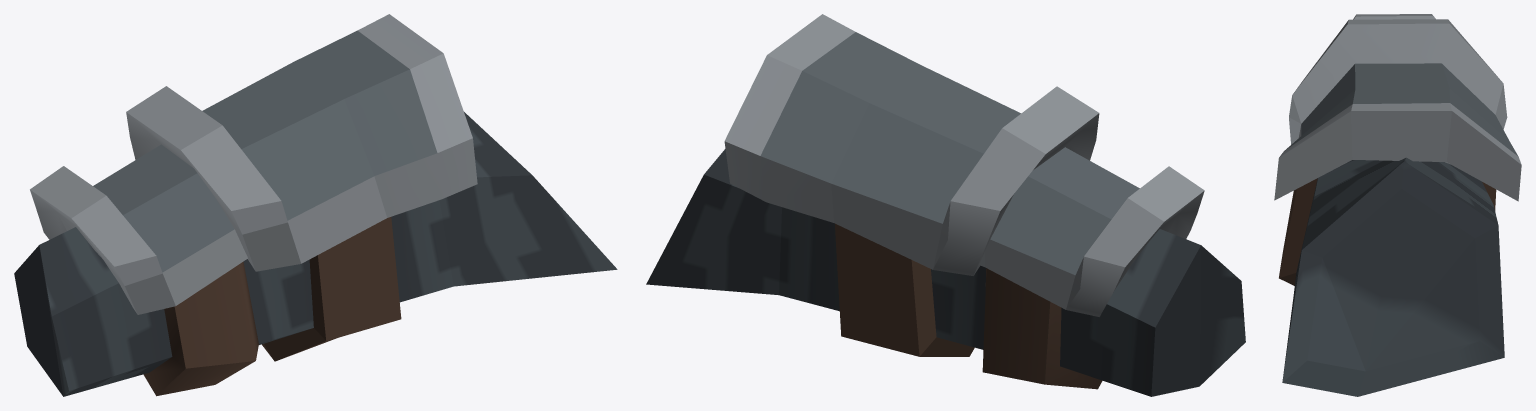
Rendered from Chr_ArmUpperRight_Female_04_Static.fbx.
The picture shows the model from 3 angles, left to right: view 1: azimuth 30°, elevation 25°; view 2: azimuth 150°, elevation 25°; view 3: azimuth 270°, elevation 25°; orthographic projection. The views are drawn at different scales.
Parts seen in each view (by area): view 1: Chr_ArmUpperRight_Female_04_Static; view 2: Chr_ArmUpperRight_Female_04_Static; view 3: Chr_ArmUpperRight_Female_04_Static.
Boxes of the visible parts, x1,y1,x2,y2 form: Chr_ArmUpperRight_Female_04_Static: [14, 14, 617, 396]; Chr_ArmUpperRight_Female_04_Static: [646, 14, 1245, 396]; Chr_ArmUpperRight_Female_04_Static: [1274, 14, 1521, 396].
Size of the model in its own units: 0.3535 by 0.1818 by 0.1513.
